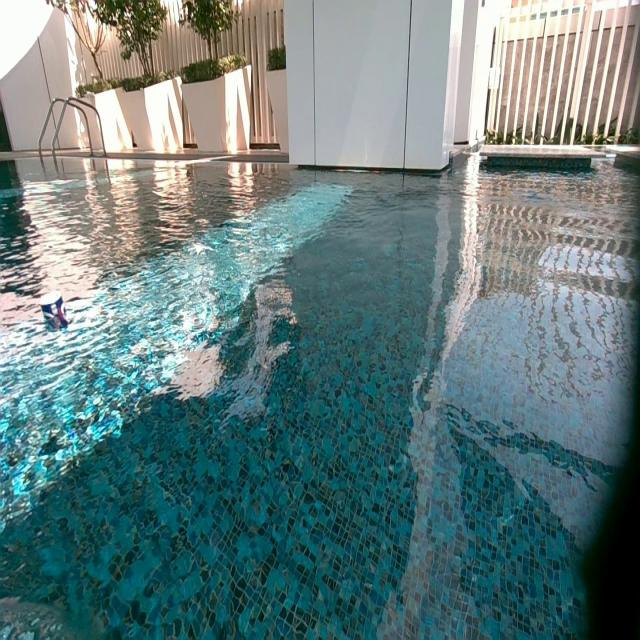Cans: (38, 292, 68, 326)
